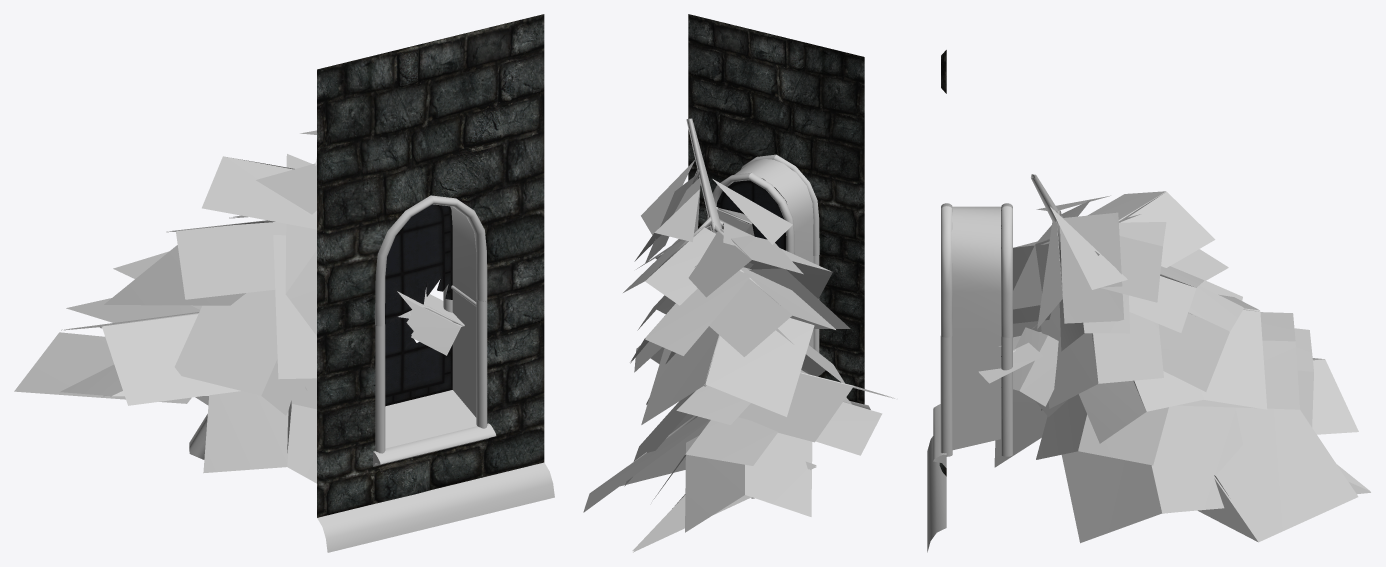
File: square_brick_window_large_blue_broken_off.dae
3 renders of one model, left to right at view 1: azimuth 30°, elevation 25°; view 2: azimuth 150°, elevation 25°; view 3: azimuth 270°, elevation 25°, orthographic. The views are drawn at different scales.
Parts seen in each view (by area): view 1: polySurface237, polySurface185, polySurface181, polySurface238, polySurface184, polySurface182; view 2: polySurface237, polySurface185, polySurface181, polySurface238, polySurface184; view 3: polySurface237, polySurface238, polySurface182.
Boxes of the visible parts, bbox=[...] form: polySurface237: bbox=[14, 130, 464, 483]; polySurface185: bbox=[317, 14, 544, 307]; polySurface181: bbox=[317, 252, 544, 517]; polySurface238: bbox=[373, 195, 496, 466]; polySurface184: bbox=[385, 204, 452, 406]; polySurface182: bbox=[317, 462, 554, 552]; polySurface237: bbox=[583, 118, 894, 552]; polySurface185: bbox=[688, 14, 864, 241]; polySurface181: bbox=[698, 201, 864, 404]; polySurface238: bbox=[707, 154, 819, 352]; polySurface184: bbox=[716, 178, 786, 250]; polySurface237: bbox=[978, 174, 1370, 543]; polySurface238: bbox=[933, 203, 1012, 467]; polySurface182: bbox=[927, 436, 946, 552].
Size of the model in its own units: 6.22 by 8.57 by 7.37.
